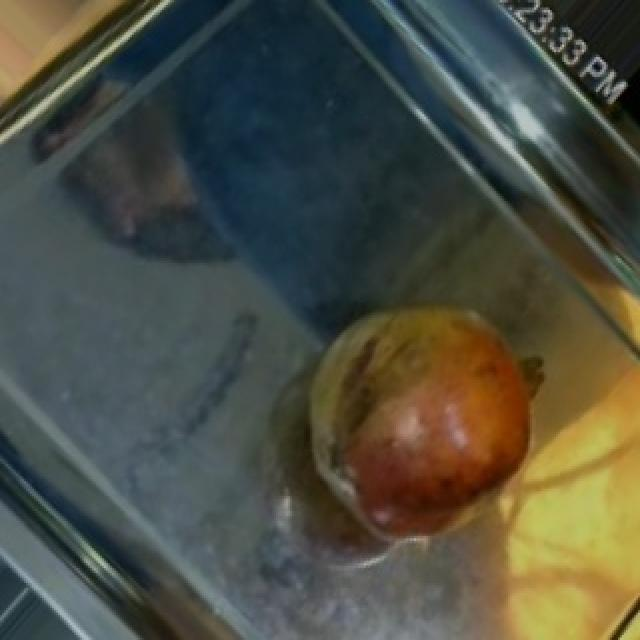fruit: (294, 273, 572, 565)
